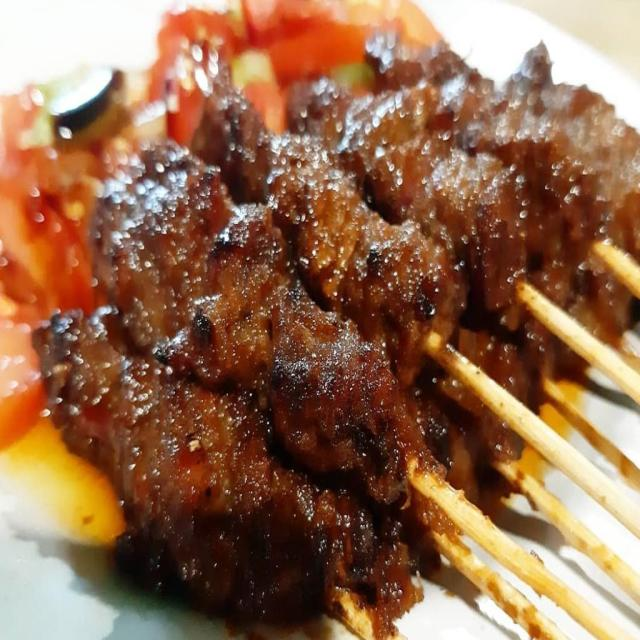Sate: (81, 72, 640, 640)
